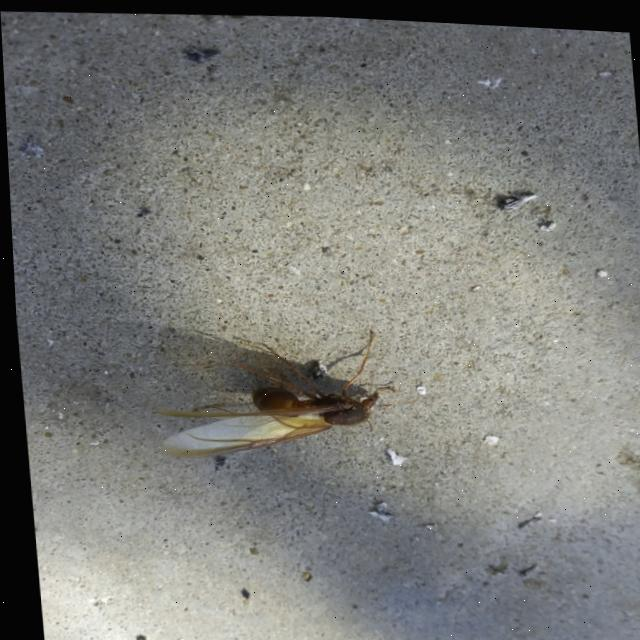Alive-Male-Alate: (143, 317, 420, 467)
